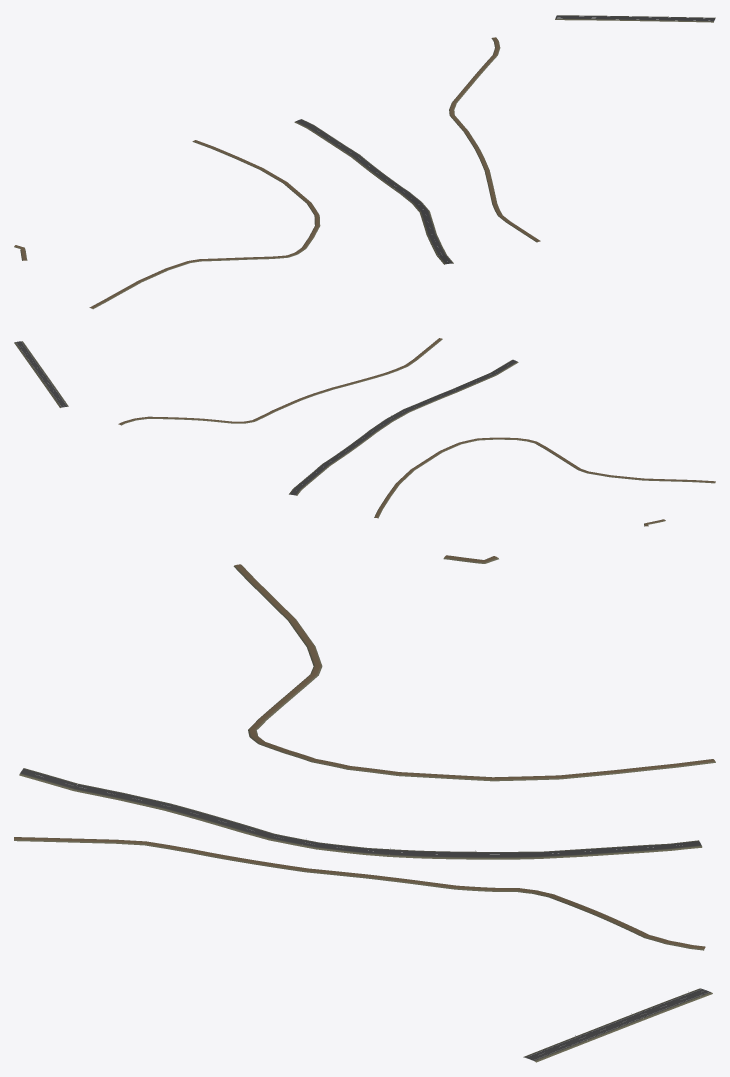
3 renders of one model, top to bottom at view 1: azimuth 30°, elevation 25°; view 2: azimuth 150°, elevation 25°; view 3: azimuth 270°, elevation 25°, orthographic. The views are drawn at different scales.
Visible parts, largest first — view 1: roads; view 2: roads; view 3: roads.
Boxes of the visible parts, x1=… form: roads: x1=14, y1=15, x2=715, y2=309; roads: x1=14, y1=338, x2=715, y2=526; roads: x1=14, y1=555, x2=715, y2=1062.
Bounding box in the file's own units: 808 × 56.36 × 408.
